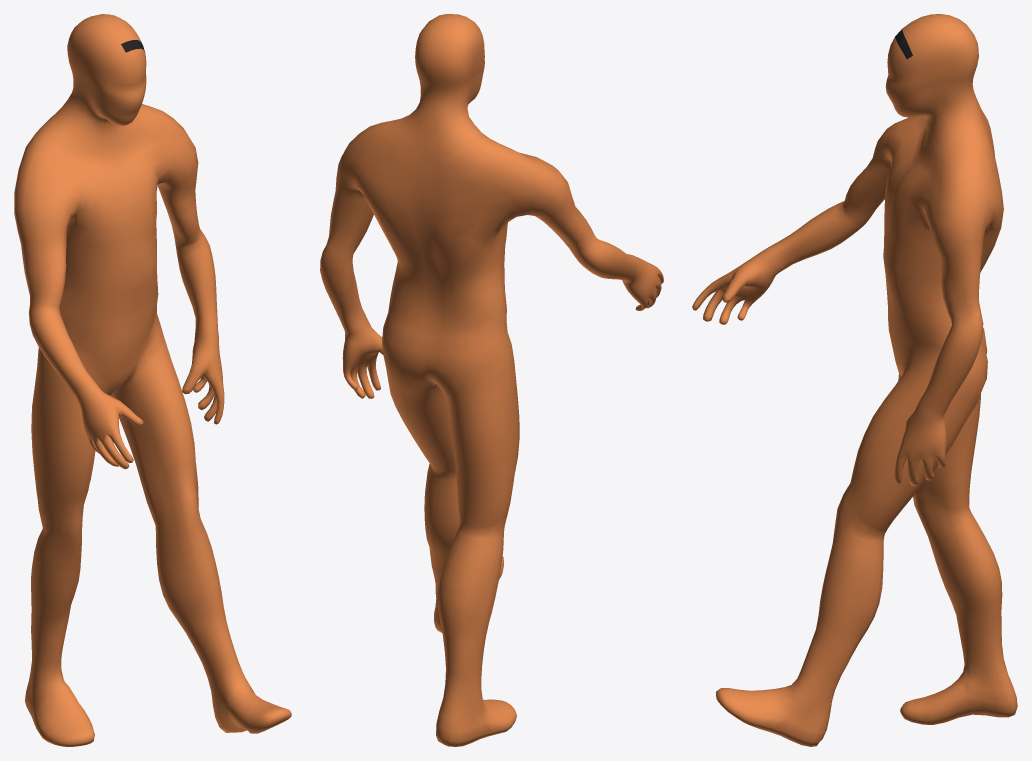
Rendered from ManMeshForUnity.fbx.
The picture shows the model from 3 angles, left to right: view 1: azimuth 30°, elevation 25°; view 2: azimuth 150°, elevation 25°; view 3: azimuth 270°, elevation 25°; orthographic projection. The views are drawn at different scales.
Visible parts, largest first — view 1: Human_BaseMesh; view 2: Human_BaseMesh; view 3: Human_BaseMesh.
Part boxes in pixels (x1=…): Human_BaseMesh: x1=14, y1=14, x2=291, y2=746; Human_BaseMesh: x1=320, y1=14, x2=663, y2=746; Human_BaseMesh: x1=692, y1=14, x2=1017, y2=746.
Size of the model in its own units: 58.6 by 170 by 69.52.
